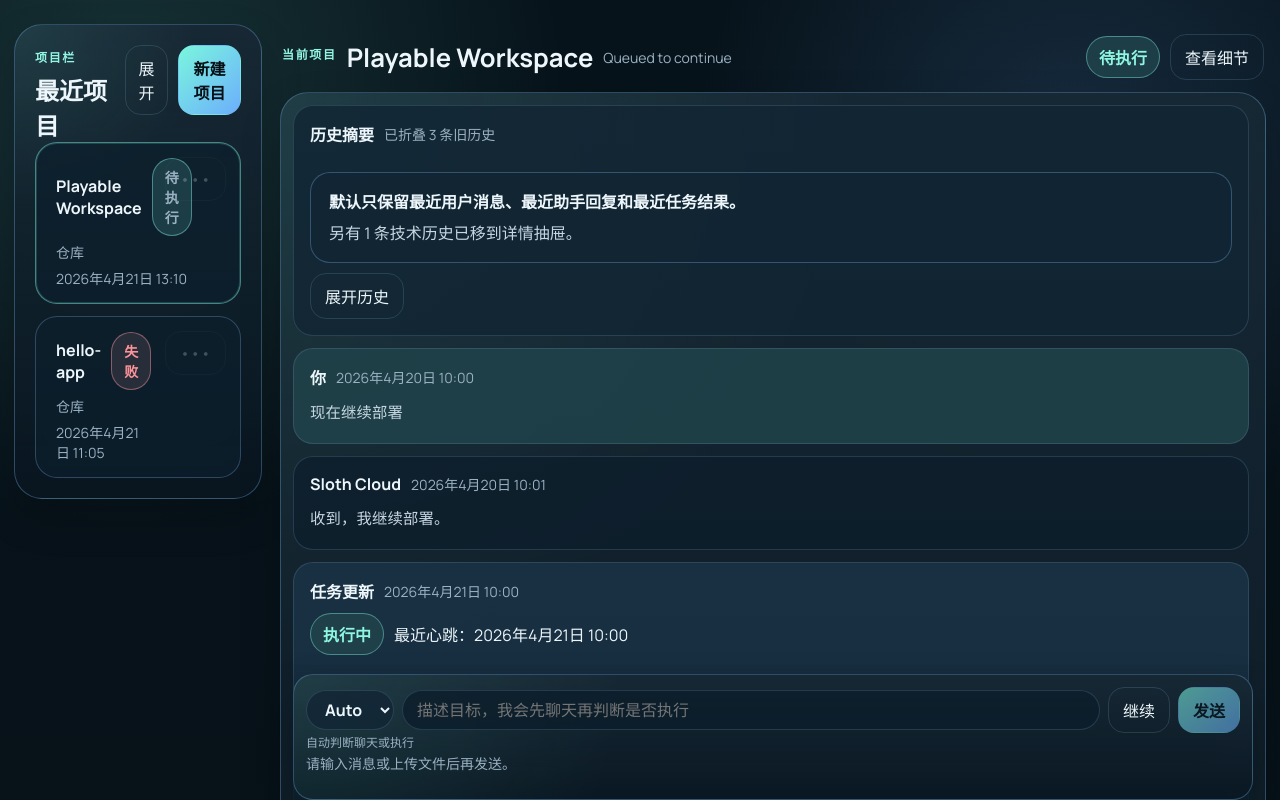
Scenario: OperatorV4Page › collapses legacy workspace history by default and keeps debug content out of the main conversation
Expected: the element with test id "operator-v4-history-summary" is shown, [293,105,1249,336]
Expected: the text "帮我部署这个仓库" is not shown
Step 1. Click the button with test id "operator-v4-history-toggle" → (357, 296), box [310,273,404,319]
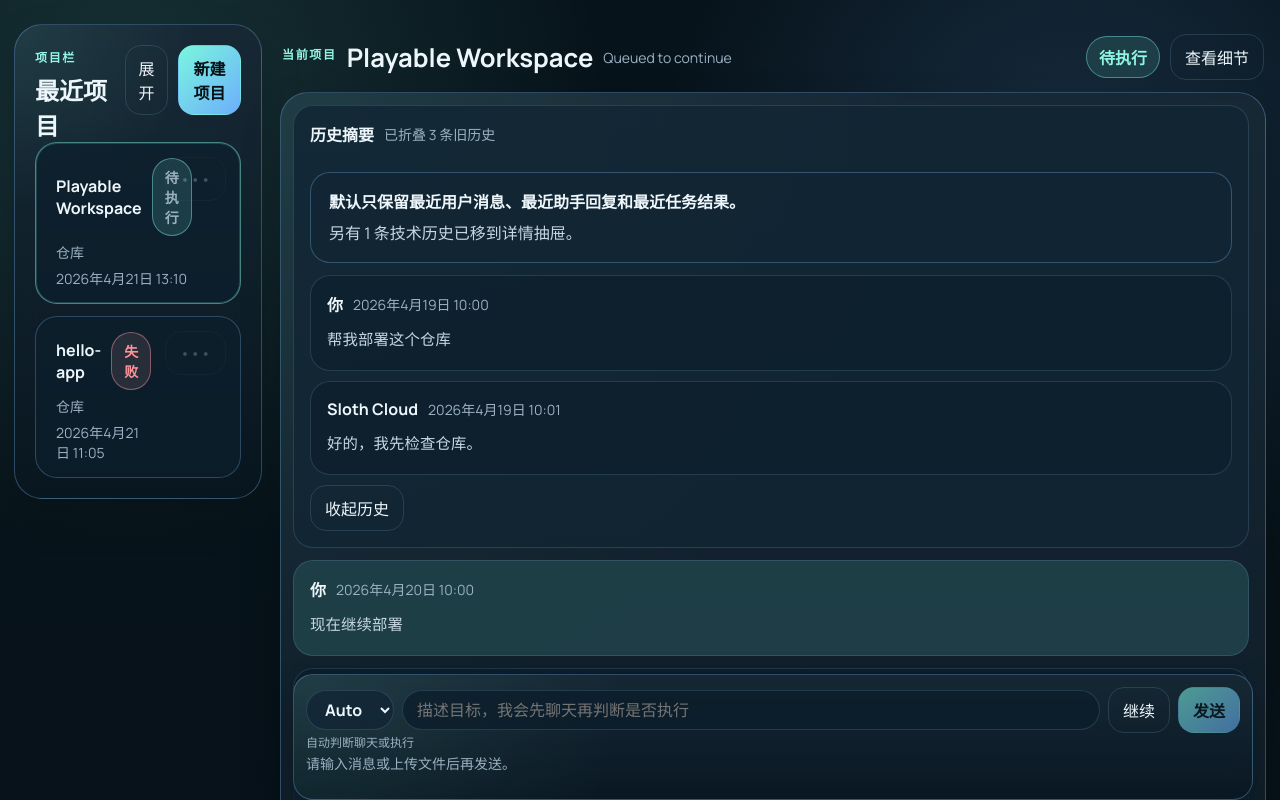
Expected: the element with test id "operator-v4-history-expanded" is shown, [310,275,1232,475]
Expected: the text "帮我部署这个仓库" is shown, [327,329,451,350]
Expected: the text "好的，我先检查仓库。" is shown, [327,433,482,454]
